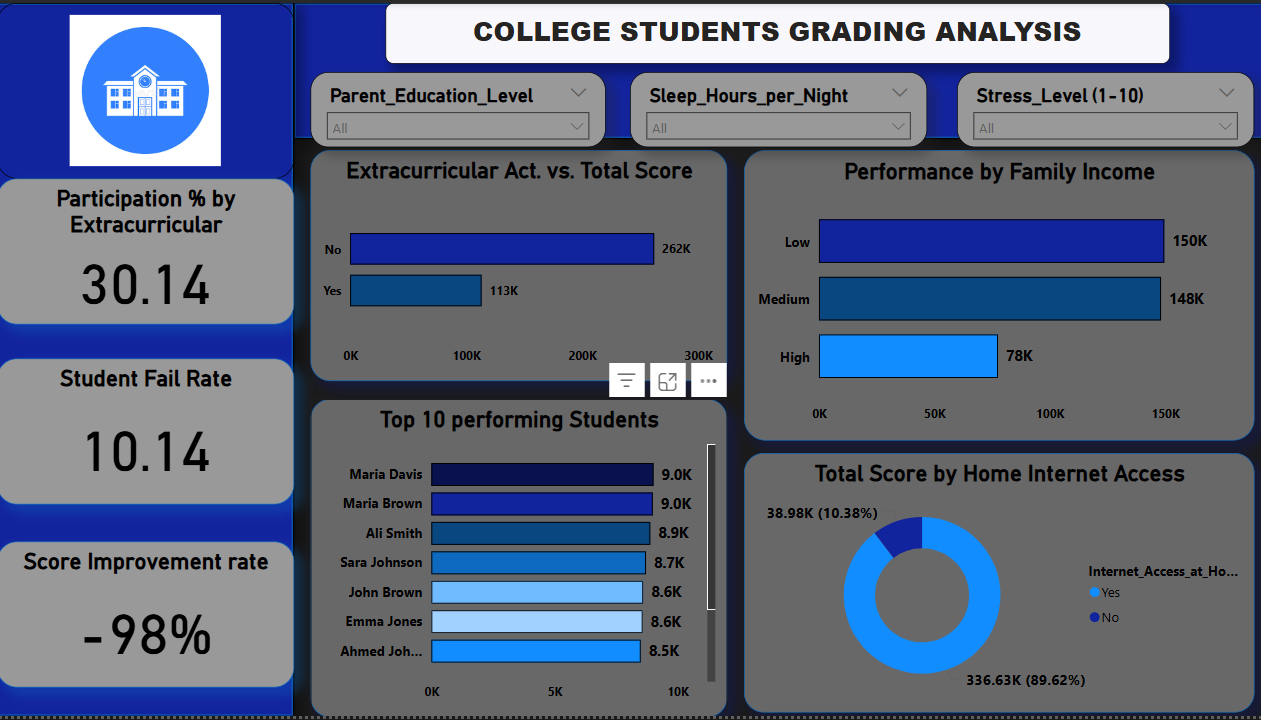

This screenshot's page, from the dashboard's own definition file:
{"tool":"powerbi","page":{"name":"Behavioral & Performance Insights","canvas":[1280,720],"ordinal":1},"visuals":[{"type":"shape","box":[299.8,0,980.6,137.5],"z":0},{"type":"textbox","box":[392.6,0,791.8,61.3],"z":1000},{"type":"shape","box":[0,0,299.8,720.6],"z":2000},{"type":"clusteredBarChart","title":"Extracurricular Act. vs. Total Score","fields":{"Y":["Performance.Total_Score"],"Category":["Behavioural.Extracurricular_Activities"]},"box":[316.4,149.1,420.7,233.6],"z":3000},{"type":"clusteredBarChart","title":"Top 10 performing Students","fields":{"Category":["Student_Info.Full Name"],"Y":["Performance.Total_Score"]},"box":[316.4,399.2,420.7,321.4],"z":4000},{"type":"barChart","title":"Performance by Family Income","fields":{"Category":["Behavioural.Family_Income_Level"],"Y":["Performance.Total_Score"]},"box":[753.7,149.1,515.2,293.2],"z":5000},{"type":"donutChart","title":"Total Score by Home Internet Access","fields":{"Category":["Behavioural.Internet_Access_at_Home"],"Y":["Performance.Total_Score"]},"box":[753.7,453.9,515.2,261.7],"z":6000},{"type":"slicer","fields":{"Values":["Behavioural.Parent_Education_Level"]},"box":[316.4,69.6,298.2,76.2],"z":7000},{"type":"slicer","fields":{"Values":["Behavioural.Sleep_Hours_per_Night"]},"box":[639.4,69.6,299.8,76.2],"z":8000},{"type":"image","box":[0,0,299.8,177.2],"z":9000},{"type":"slicer","fields":{"Values":["Behavioural.Stress_Level (1-10)"]},"box":[969,69.6,299.8,76.2],"z":10000},{"type":"card","title":"Participation % by Extracurricular ","fields":{"Values":["Performance.Participation_Percentage"]},"box":[0,177.2,299.8,147.4],"z":11000},{"type":"card","title":"Score Improvement rate","fields":{"Values":["Performance.Score_Improvement"]},"box":[0,543.3,299.8,147.4],"z":12000},{"type":"card","title":"Student Fail Rate","fields":{"Values":["Performance.Student Fail Count"]},"box":[0,359.5,299.8,147.4],"z":13001}]}

Visuals, with their boxes in screenshot pixels (x1, y1, x2, y2), scaled from the page's 1280x720 canvas onto the 1261x720 screenshot:
shape: bbox=(295, 0, 1260, 138)
textbox: bbox=(387, 0, 1167, 61)
shape: bbox=(0, 0, 295, 719)
"Extracurricular Act. vs. Total Score" clusteredBarChart: bbox=(312, 149, 726, 383)
"Top 10 performing Students" clusteredBarChart: bbox=(312, 399, 726, 719)
"Performance by Family Income" barChart: bbox=(743, 149, 1250, 442)
"Total Score by Home Internet Access" donutChart: bbox=(743, 454, 1250, 716)
slicer - Behavioural.Parent_Education_Level: bbox=(312, 70, 605, 146)
slicer - Behavioural.Sleep_Hours_per_Night: bbox=(630, 70, 925, 146)
image: bbox=(0, 0, 295, 177)
slicer - Behavioural.Stress_Level (1-10): bbox=(955, 70, 1250, 146)
"Participation % by Extracurricular " card: bbox=(0, 177, 295, 325)
"Score Improvement rate" card: bbox=(0, 543, 295, 691)
"Student Fail Rate" card: bbox=(0, 360, 295, 507)
